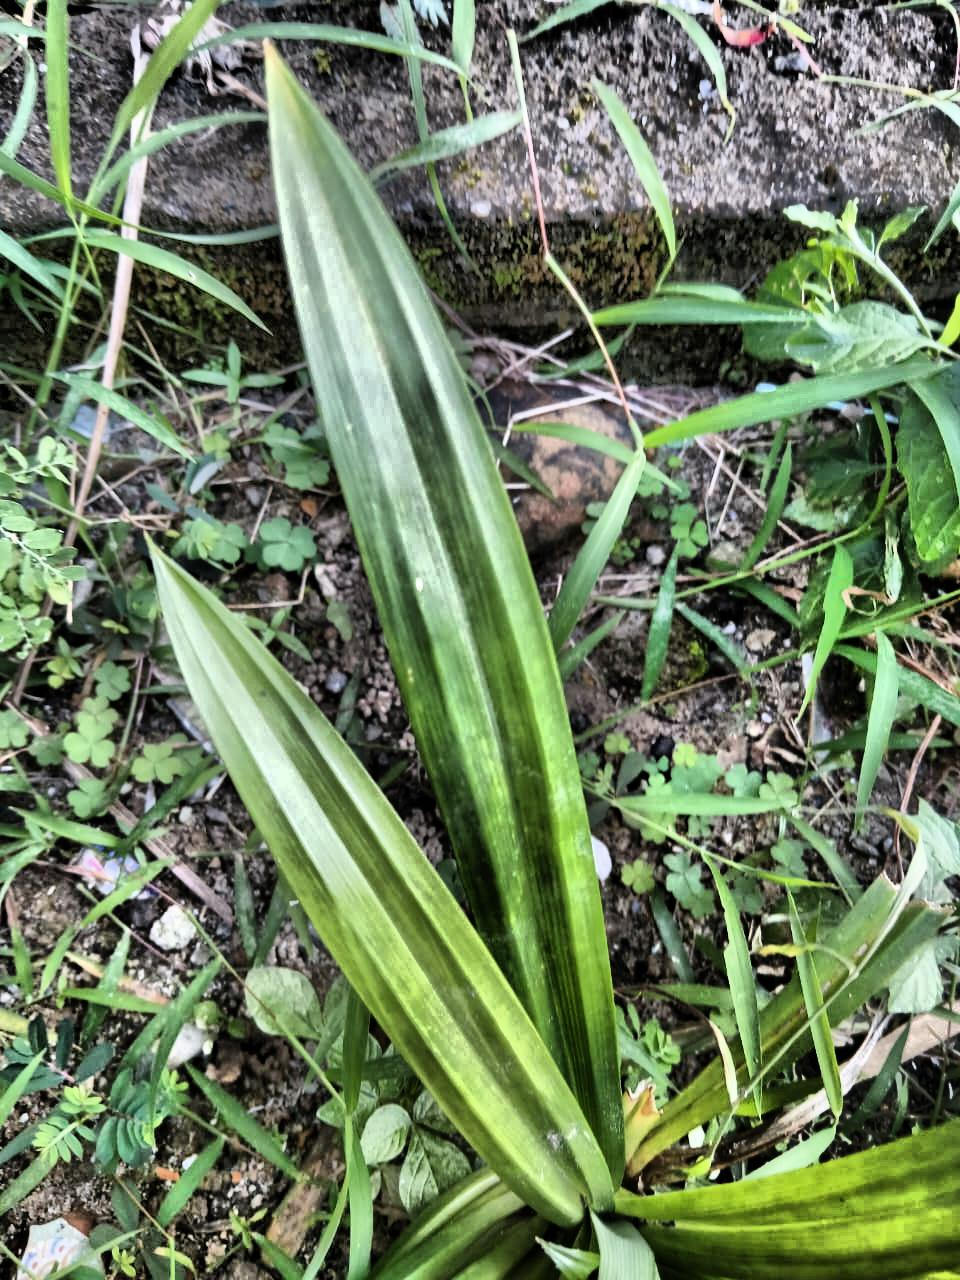daun pandan: (151, 43, 959, 1279)
